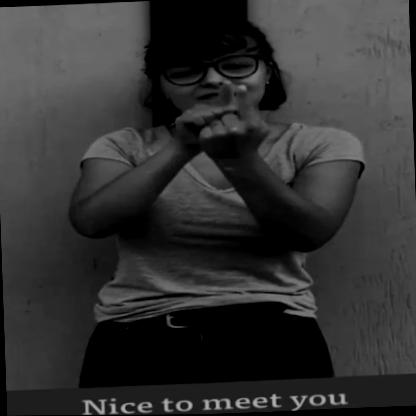NiceToMeetYou: (59, 7, 376, 368)
